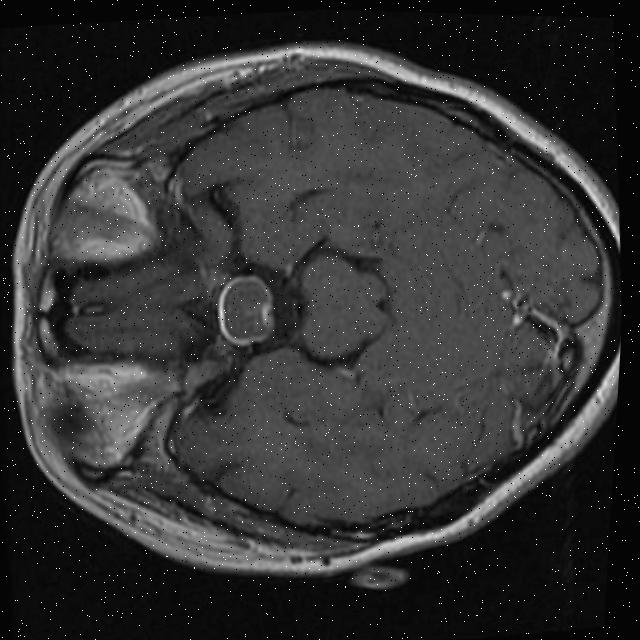Pituitary: (213, 273, 277, 348)
